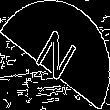N_SW: (29, 22, 81, 88)
